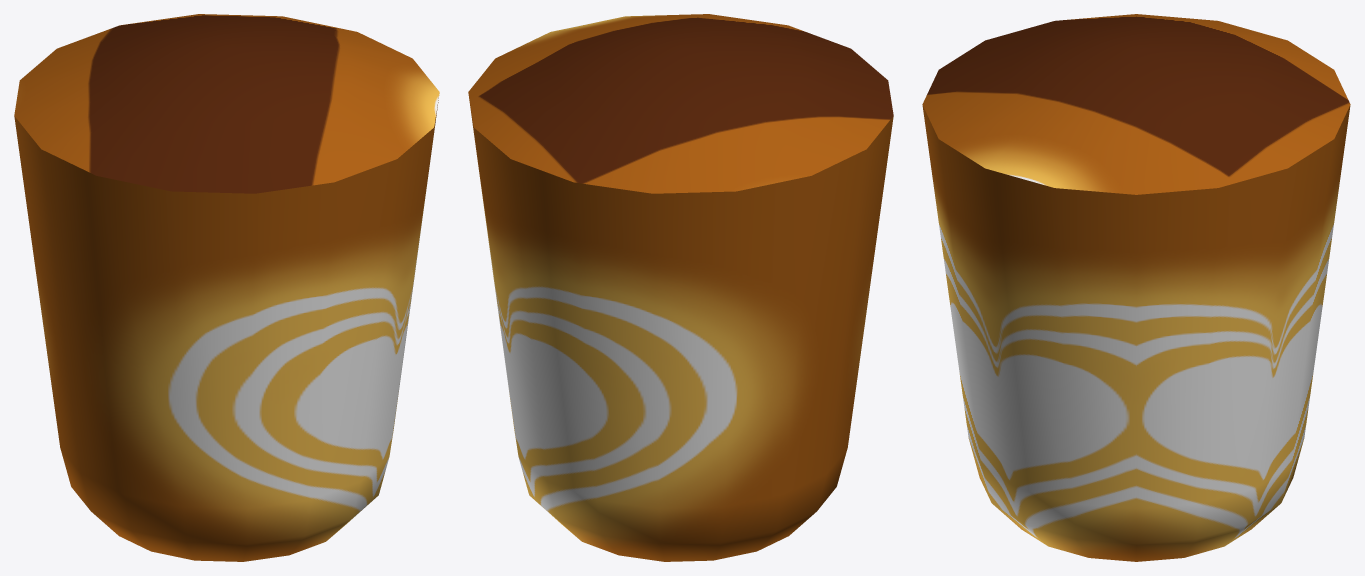
The model's file is GlassMug_Small_Liquid_01.fbx.
The picture shows the model from 3 angles, left to right: view 1: azimuth 30°, elevation 25°; view 2: azimuth 150°, elevation 25°; view 3: azimuth 270°, elevation 25°; orthographic projection.
Visible parts, largest first — view 1: GlassMug_Small_Liquid_01; view 2: GlassMug_Small_Liquid_01; view 3: GlassMug_Small_Liquid_01.
Part boxes in pixels (left/top/right/bottom): GlassMug_Small_Liquid_01: left=14, top=14, right=439, bottom=561; GlassMug_Small_Liquid_01: left=468, top=14, right=893, bottom=561; GlassMug_Small_Liquid_01: left=922, top=14, right=1350, bottom=561.
Size of the model in its own units: 28.81 by 35.62 by 28.81.
